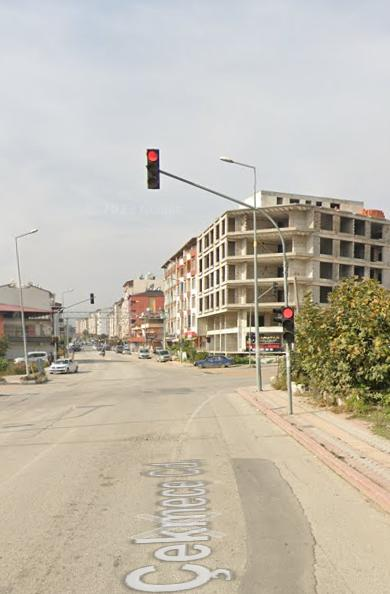redlight: (147, 147, 161, 190), (282, 307, 294, 341)
